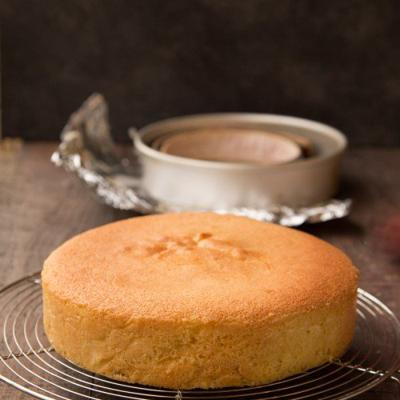cake: (33, 207, 363, 390)
